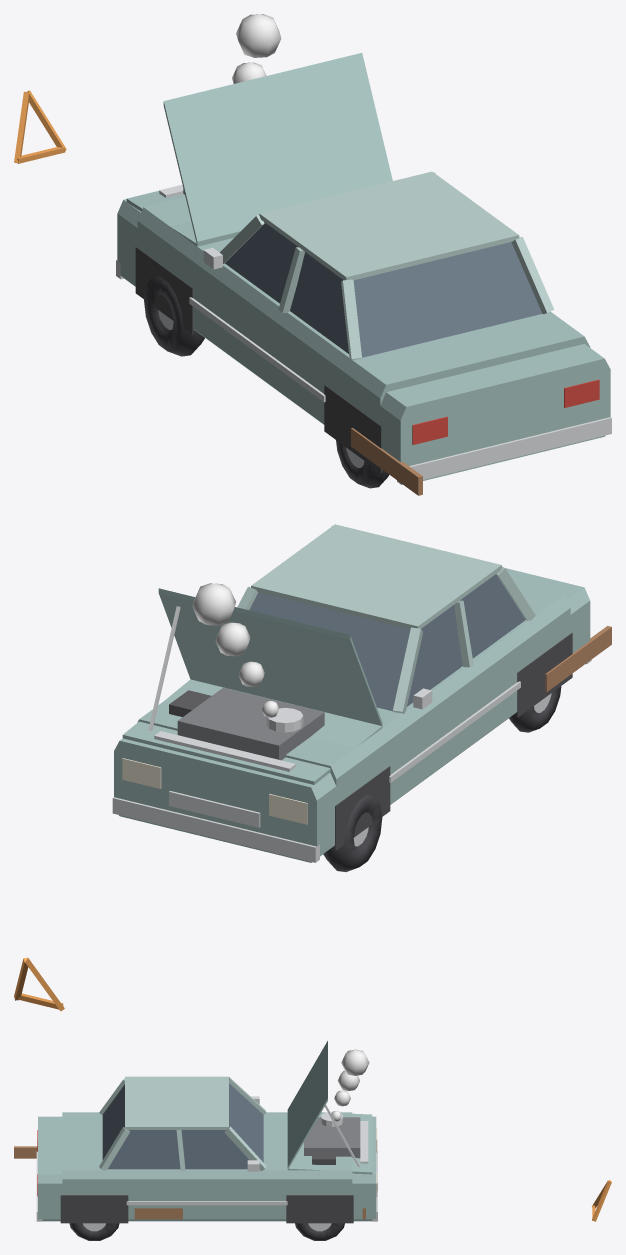
The model's file is old_car.glb.
3 views of the same model, one above another, from view 1: azimuth 30°, elevation 25°; view 2: azimuth 150°, elevation 25°; view 3: azimuth 270°, elevation 25° (orthographic). The views are drawn at different scales.
Parts seen in each view (by area): view 1: oc_car_broken_mesh, oc_car_mesh; view 2: oc_car_broken_mesh, oc_car_mesh; view 3: oc_car_broken_mesh, oc_car_mesh.
Part boxes in pixels (bbox=[...]): oc_car_broken_mesh: bbox=[14, 14, 611, 495]; oc_car_mesh: bbox=[116, 191, 611, 486]; oc_car_broken_mesh: bbox=[14, 524, 611, 1011]; oc_car_mesh: bbox=[122, 660, 590, 862]; oc_car_broken_mesh: bbox=[14, 1041, 611, 1240]; oc_car_mesh: bbox=[38, 1102, 377, 1240].
Size of the model in its own units: 2 by 2.37 by 7.43.
